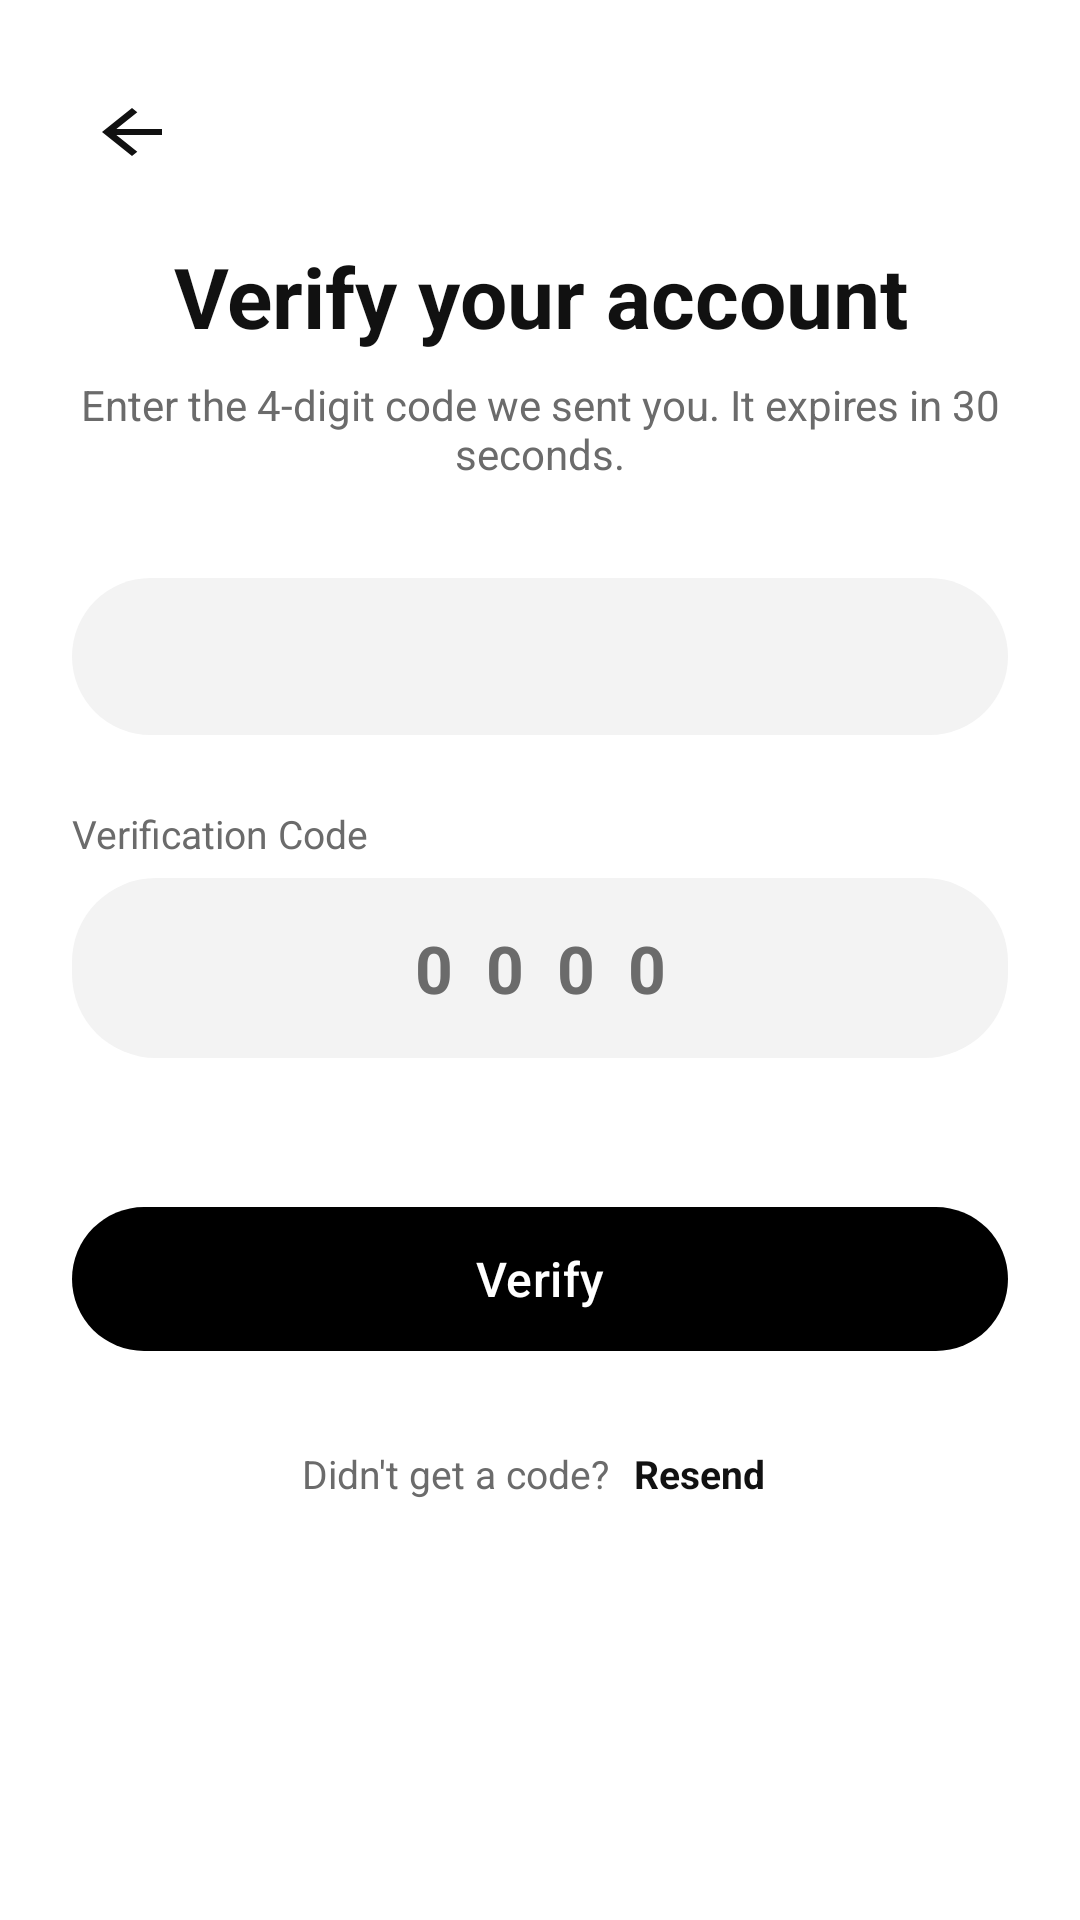

Screen size 1080w x 1920h. Icon name, then its box in pixels as (x1, y1, x2, y2):
Go back: (102, 108, 162, 156)
